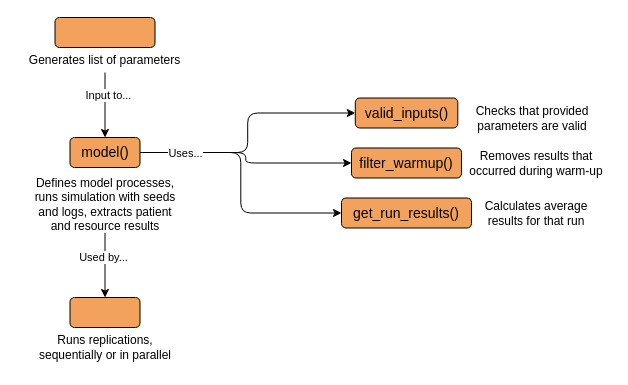
This 628x385 diagram has some shape labels left out. Here are the shapes that lost their labels. From the top down, the centre of each, then its label:
At (104,32): "parameters()".
At (104,312): "runner()".
